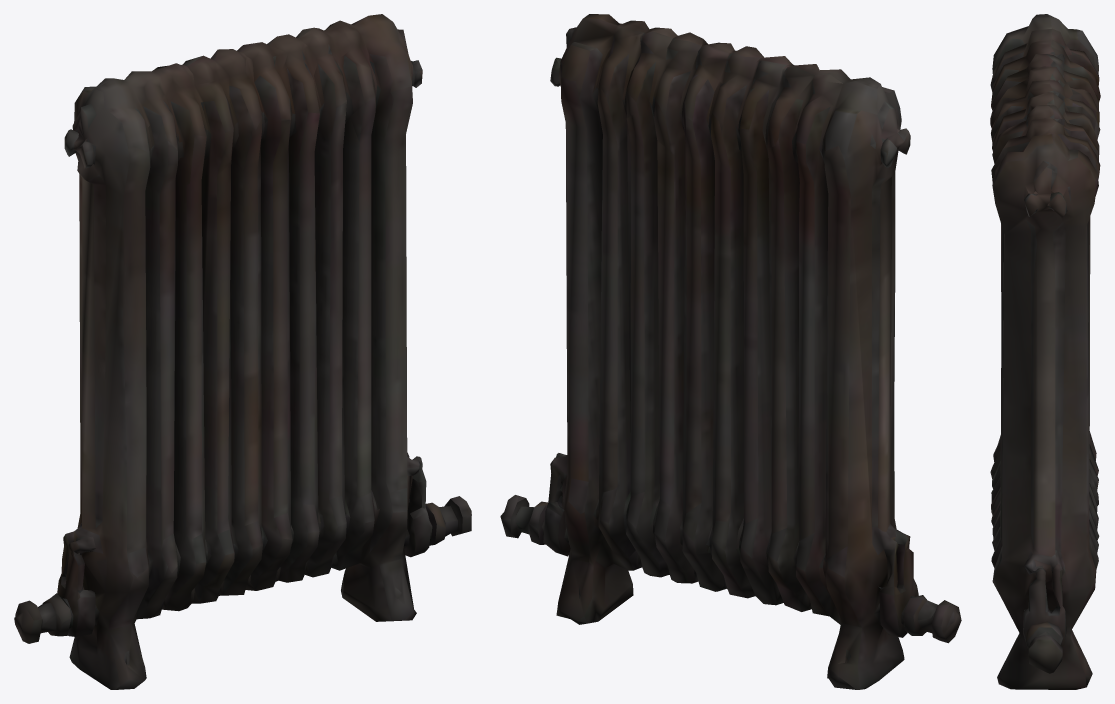
The model's file is chipped-iron-radiator-v002.glb.
The picture shows the model from 3 angles, left to right: view 1: azimuth 30°, elevation 25°; view 2: azimuth 150°, elevation 25°; view 3: azimuth 270°, elevation 25°; orthographic projection. The views are drawn at different scales.
Visible parts, largest first — view 1: chipped-iron-radiator; view 2: chipped-iron-radiator; view 3: chipped-iron-radiator.
Part boxes in pixels (x1=…): chipped-iron-radiator: x1=14, y1=14, x2=471, y2=689; chipped-iron-radiator: x1=500, y1=14, x2=961, y2=689; chipped-iron-radiator: x1=990, y1=14, x2=1100, y2=689.
Size of the model in its own units: 0.5369 by 0.6692 by 0.123.
Materials: 1 (1 with a texture image).
